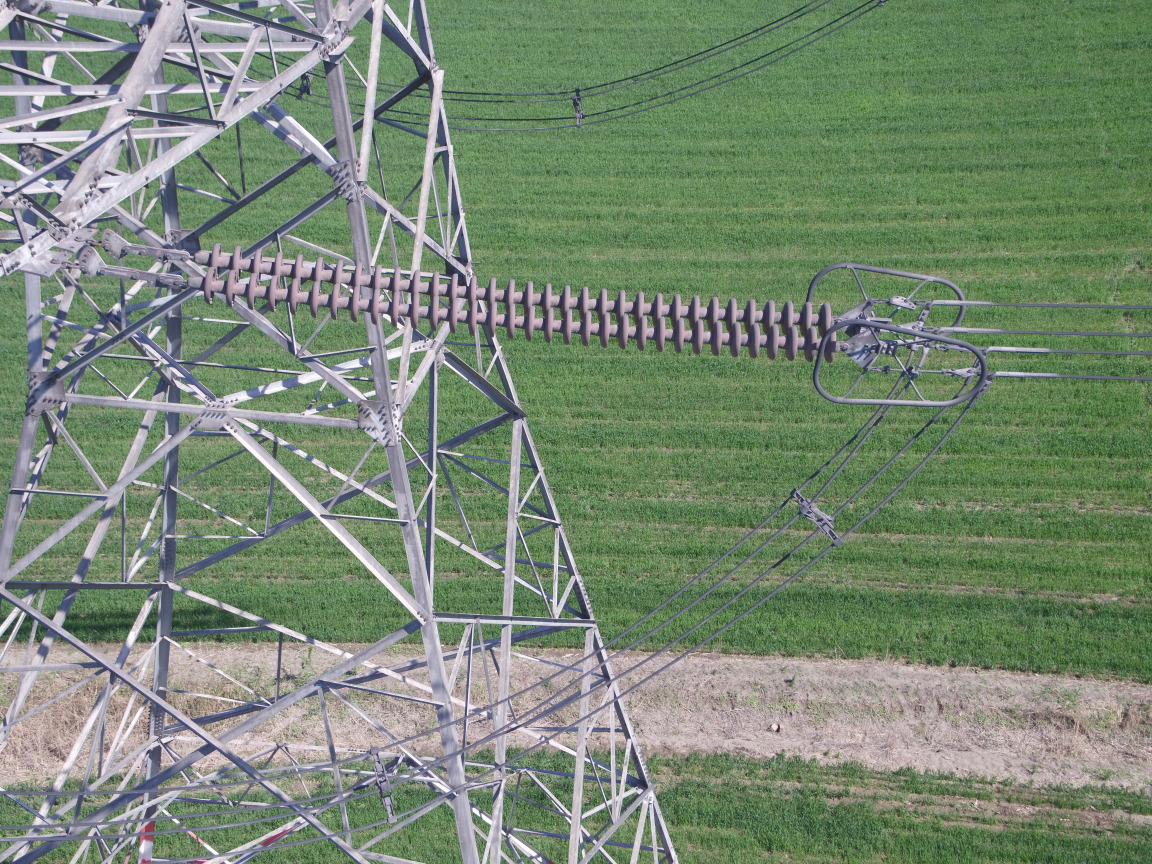insulator: (139, 240, 857, 364)
